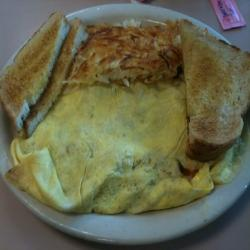bread: (168, 19, 250, 167), (1, 12, 88, 134)
omelette: (9, 81, 222, 220)
